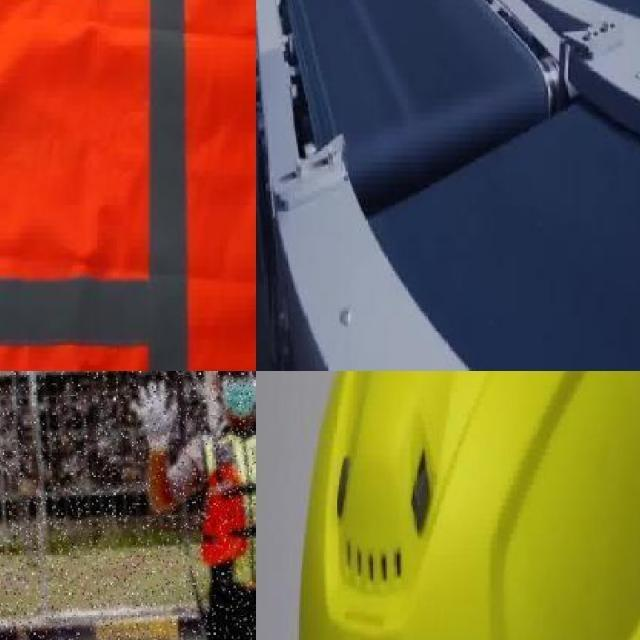apron: (128, 378, 180, 454)
